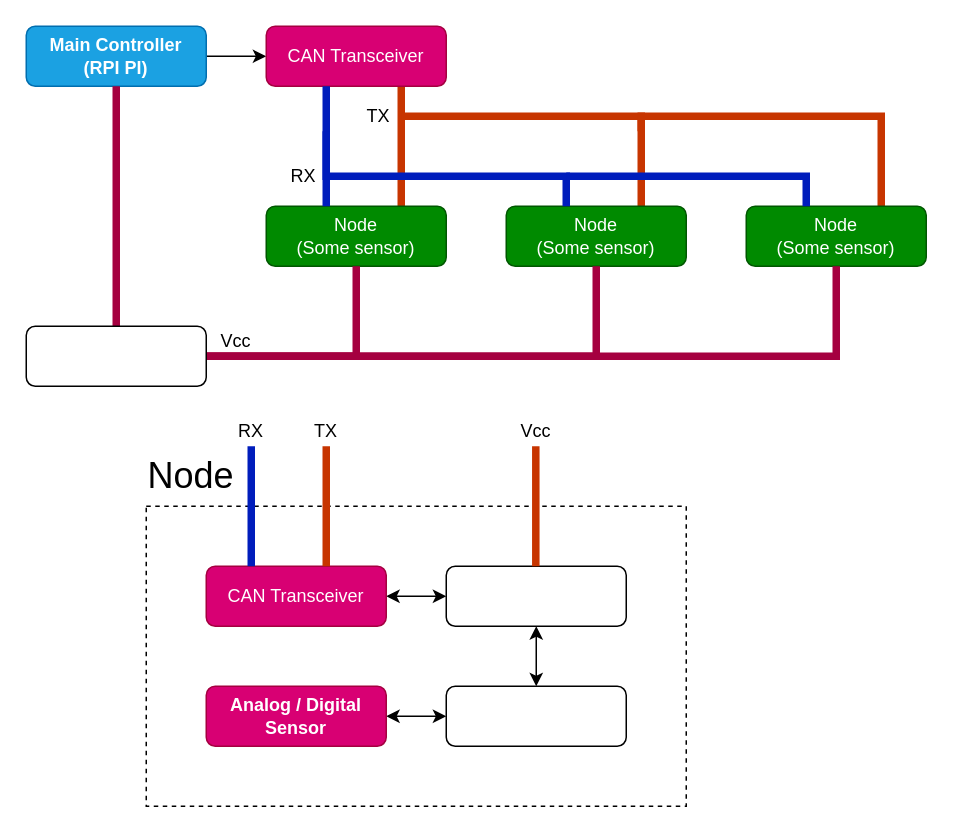
Image size: 953x833. Some labels were removed from this diagram. The centre of each missing label's shape, as x and y in pixels:
CAN Controller: [535,595]
MCU (Signal processing): [535,715]
Supply (BMS): [115,355]
